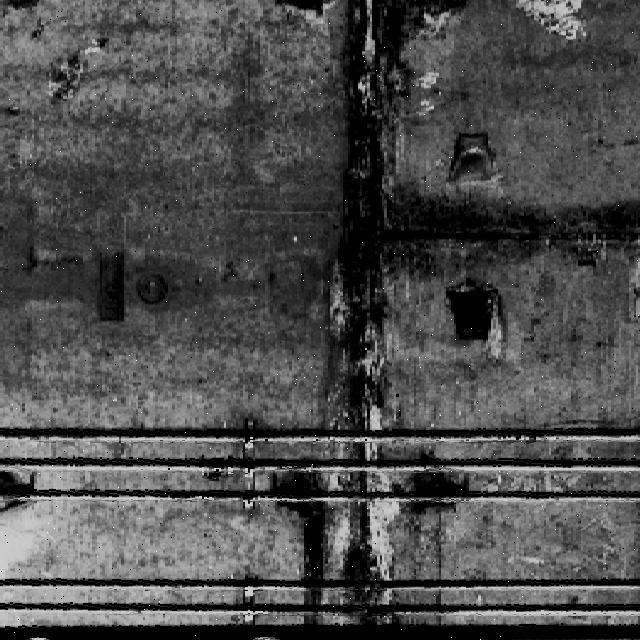leakage: (296, 0, 440, 638)
